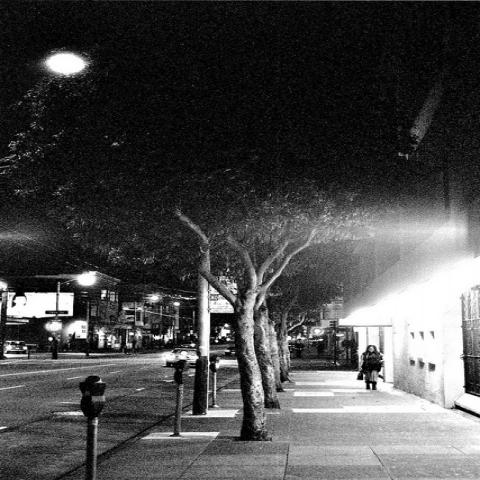car: (165, 348, 199, 367), (210, 338, 238, 356), (3, 340, 29, 354), (180, 337, 198, 348), (26, 344, 38, 354)
